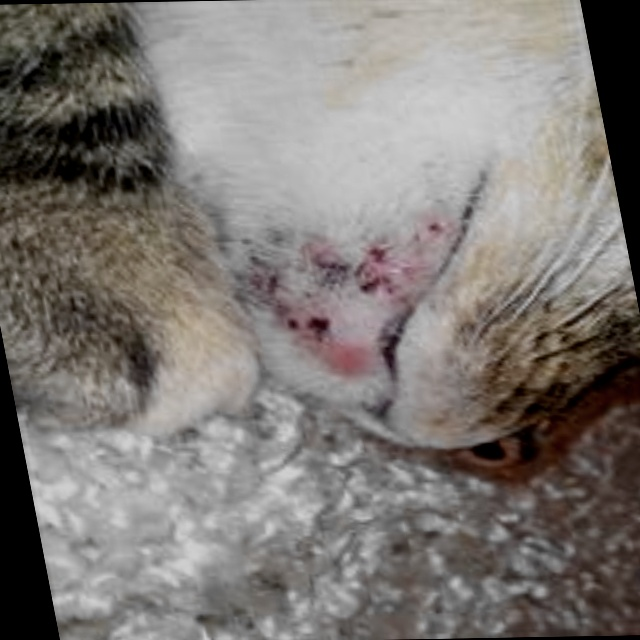acne: (228, 208, 478, 346)
